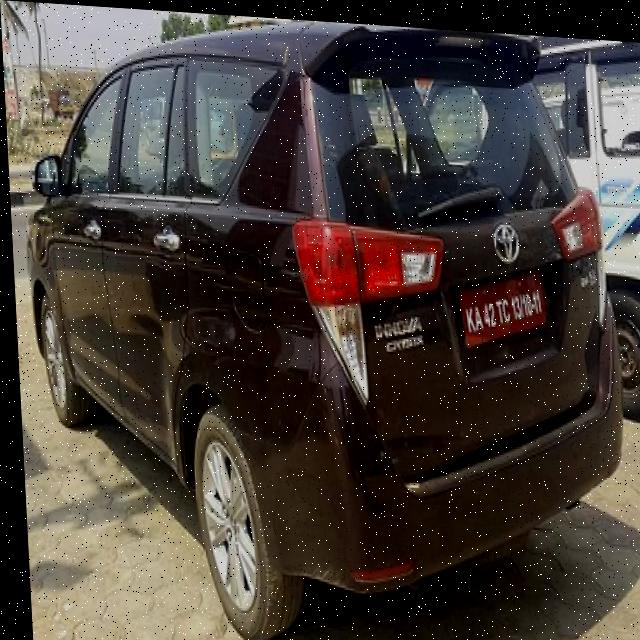plate: (449, 252, 549, 363)
